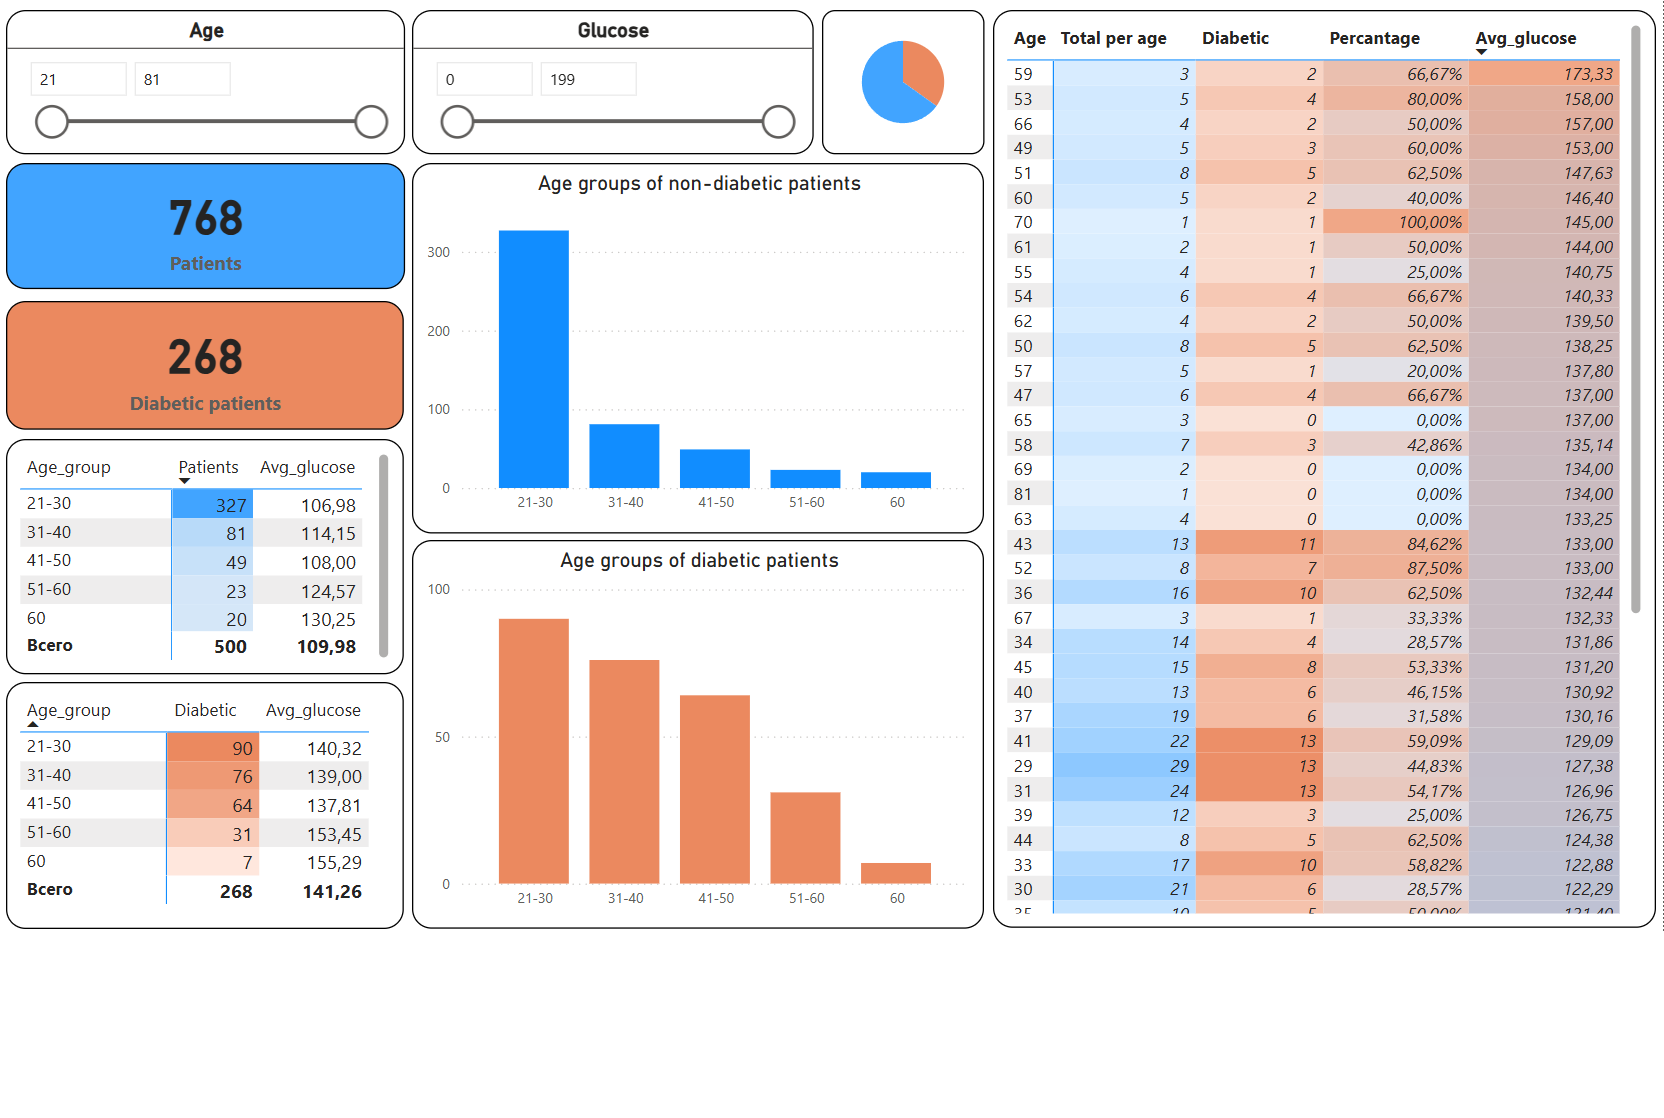

Layout of this report page (visuals, bound fields, positions):
{"tool":"powerbi","page":{"name":"Страница 1","canvas":[1280,720],"ordinal":0},"visuals":[{"type":"card","fields":{"Values":["diabetes.Patients"]},"box":[5,125.7,307.1,97.1],"z":0},{"type":"card","fields":{"Values":["diabetes.diabetic_patients"]},"box":[5.7,231.4,306.4,99.3],"z":1000},{"type":"clusteredColumnChart","title":"Age groups of  non-diabetic patients","fields":{"Category":["diabetes.Age_group"],"Y":["diabetes.Patients"]},"box":[317.9,125.7,440,285],"z":2000},{"type":"slicer","title":"Age","fields":{"Values":["diabetes.Age"]},"box":[5,7.9,307.1,110.7],"z":3000},{"type":"slicer","title":"Glucose","fields":{"Values":["diabetes.Glucose"]},"box":[317.9,7.9,308.6,110.7],"z":4000},{"type":"pivotTable","fields":{"Rows":["diabetes.Age_group"],"Values":["diabetes.Patients","Avg(diabetes.Glucose)"]},"box":[5.7,337.9,306.4,180.7],"z":5000},{"type":"clusteredColumnChart","title":"Age groups of diabetic patients","fields":{"Category":["diabetes.Age_group"],"Y":["diabetes.diabetic_patients"]},"box":[317.9,415,440,299.3],"z":6000},{"type":"pivotTable","fields":{"Rows":["diabetes.Age_group"],"Values":["diabetes.diabetic_patients","Avg(diabetes.Glucose)"]},"box":[5.7,524.3,306.4,190],"z":7000},{"type":"pivotTable","fields":{"Rows":["percantage_per_age.age"],"Values":["Min(percantage_per_age.total_patients_per_age)","Sum(diabetes.Outcome)","diabetes.Процент болеющих по возрасту","Avg(diabetes.Glucose)"]},"box":[764.3,7.9,510,706.4],"z":8000},{"type":"pieChart","fields":{"Y":["diabetes.diabetic_patients","diabetes.Non-diabetic patient"]},"box":[633.1,7.7,124.6,110.8],"z":9000}]}

Visuals, with their boxes in screenshot pixels (x1, y1, x2, y2):
card - diabetes.Patients: rect(11, 161, 404, 286)
card - diabetes.diabetic_patients: rect(12, 297, 404, 424)
"Age groups of  non-diabetic patients" clusteredColumnChart: rect(412, 161, 976, 527)
"Age" slicer: rect(11, 10, 404, 152)
"Glucose" slicer: rect(412, 10, 808, 152)
pivotTable - diabetes.Age_group x diabetes.Patients: rect(12, 433, 404, 665)
"Age groups of diabetic patients" clusteredColumnChart: rect(412, 532, 976, 916)
pivotTable - diabetes.Age_group x diabetes.diabetic_patients: rect(12, 672, 404, 916)
pivotTable - percantage_per_age.age x Min(percantage_per_age.total_patients_per_age): rect(984, 10, 1638, 916)
pieChart - diabetes.diabetic_patients x diabetes.Non-diabetic patient: rect(816, 10, 976, 152)
